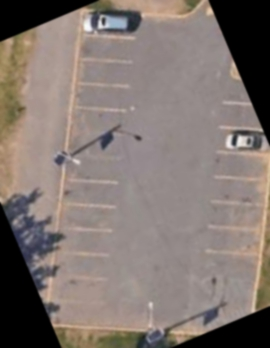parkingspot: (45, 9, 147, 331), (200, 75, 270, 259)
